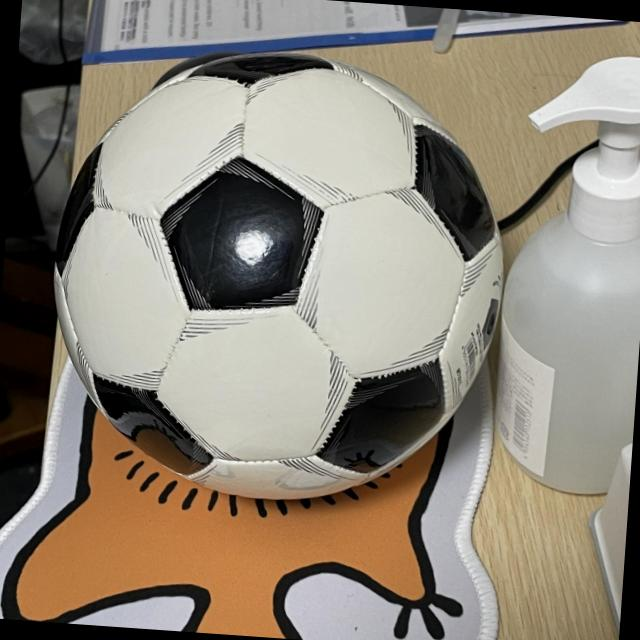Soccer Ball: (36, 38, 519, 516)
